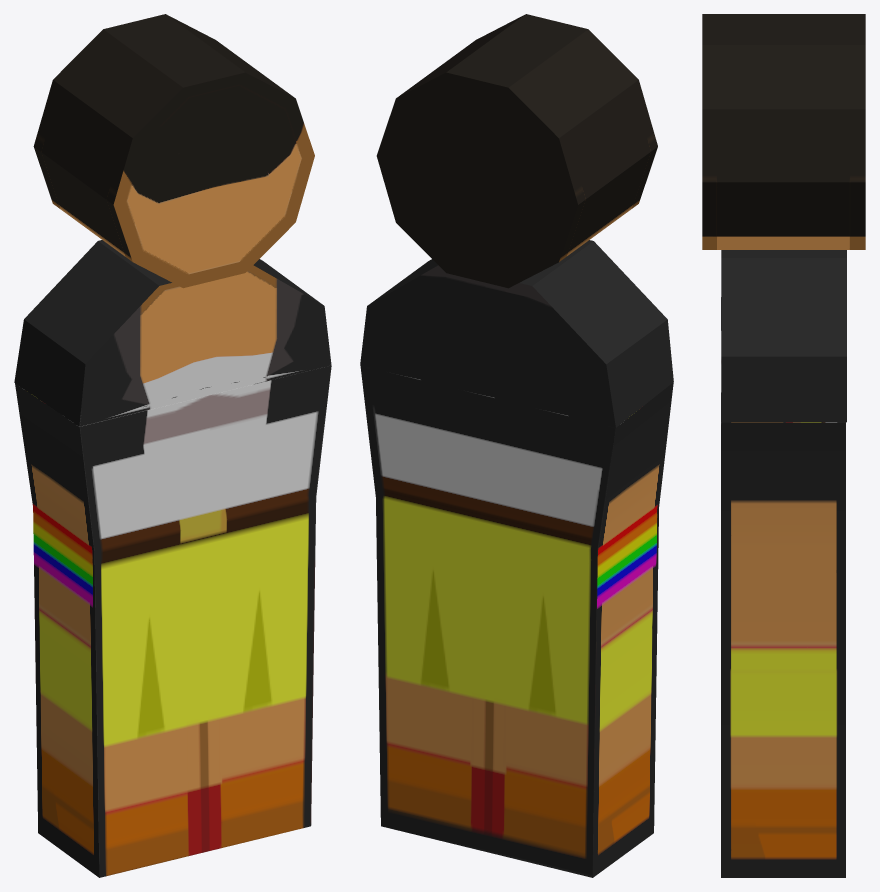
Rendered from human_HighWaist.fbx.
3 renders of one model, left to right at view 1: azimuth 30°, elevation 25°; view 2: azimuth 150°, elevation 25°; view 3: azimuth 270°, elevation 25°, orthographic. The views are drawn at different scales.
Parts seen in each view (by area): view 1: polySurface4, pCylinder4; view 2: polySurface4, pCylinder4; view 3: polySurface4, pCylinder4.
Boxes of the visible parts, bbox=[...] form: polySurface4: bbox=[14, 240, 331, 877]; pCylinder4: bbox=[33, 14, 314, 288]; polySurface4: bbox=[360, 240, 673, 877]; pCylinder4: bbox=[376, 14, 657, 288]; polySurface4: bbox=[721, 250, 846, 877]; pCylinder4: bbox=[702, 14, 865, 249].
Bounding box in the file's own units: 1.54 × 4.47 × 0.8315.
